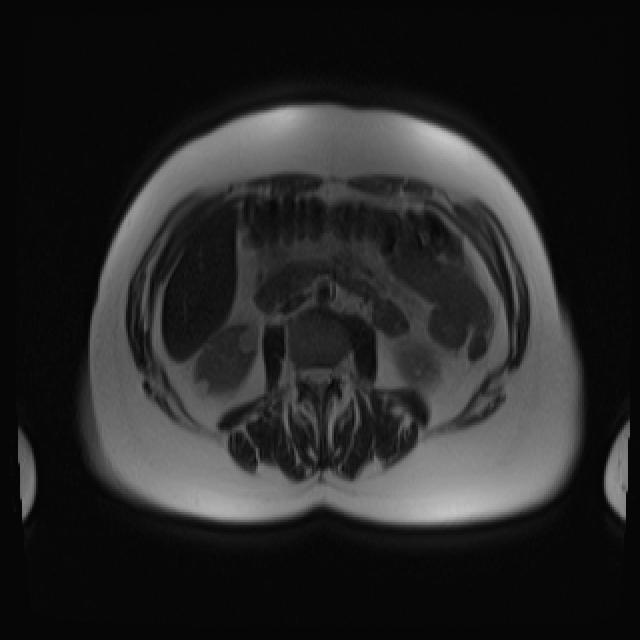sag: (196, 325, 259, 398)
sol: (394, 341, 441, 385)
